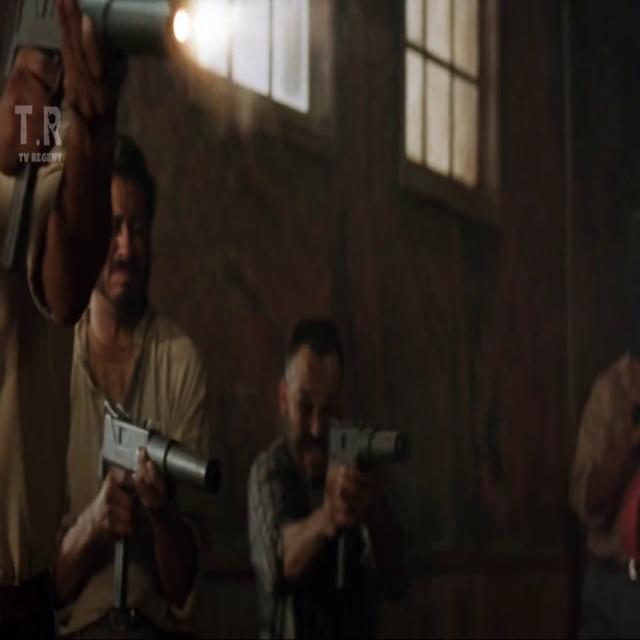long weapon: (88, 378, 222, 611), (319, 384, 415, 588)
